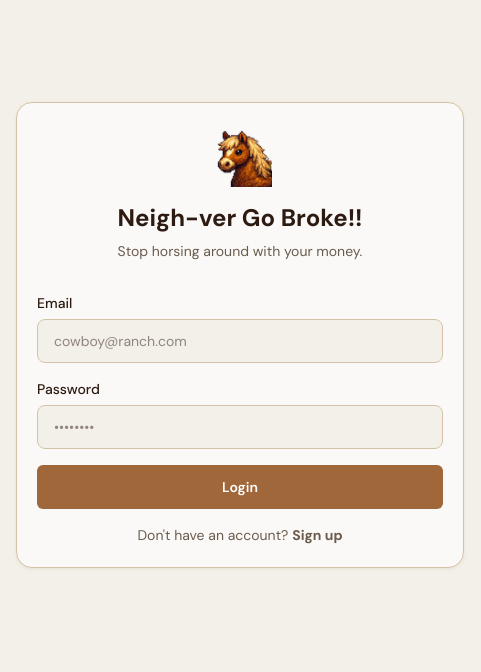
it: LoginPage › switches back to login mode from signup
Click the text "Sign up": (317, 535) [292, 526, 343, 544]
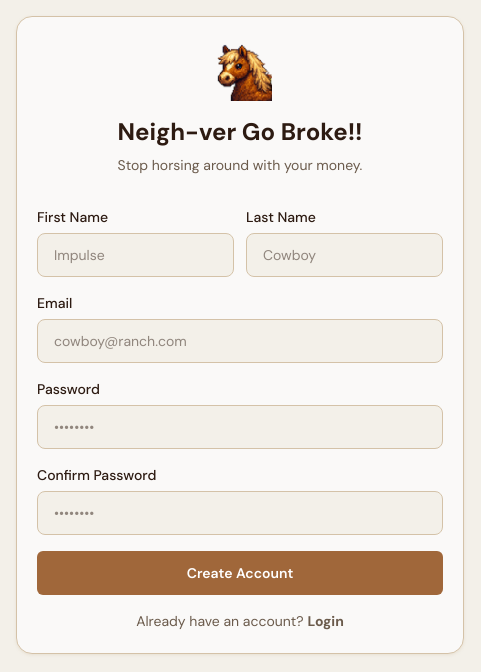
Click the text "Login": (326, 621) [307, 612, 344, 630]
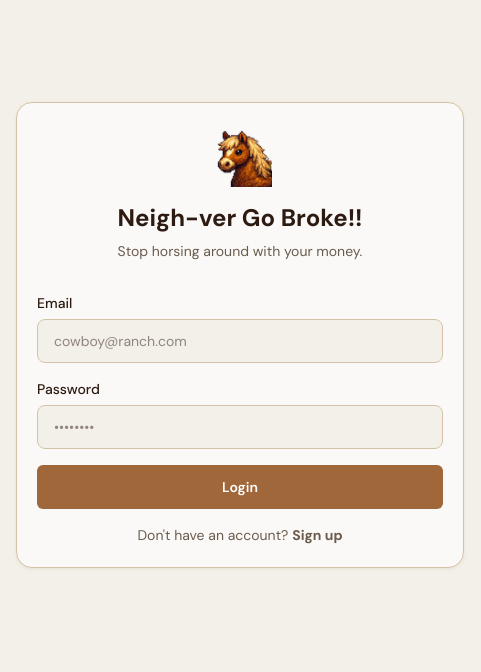
Now the button "Login" is shown, box [37, 465, 443, 509]
